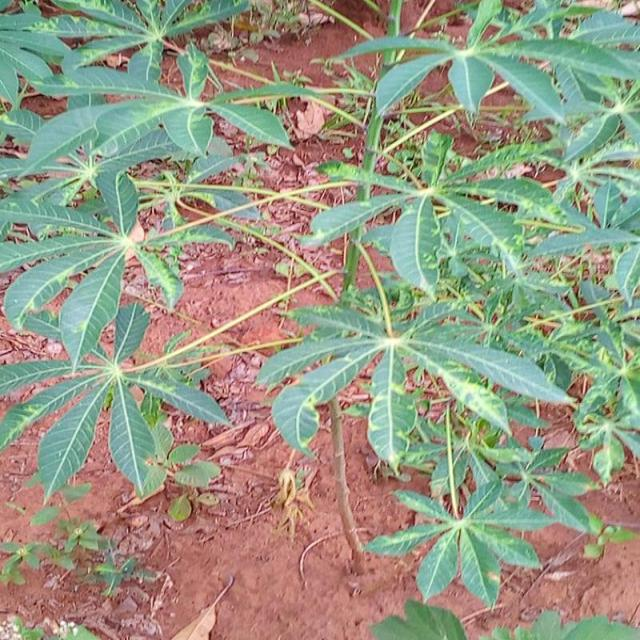cassava leaf: (256, 273, 574, 470)
